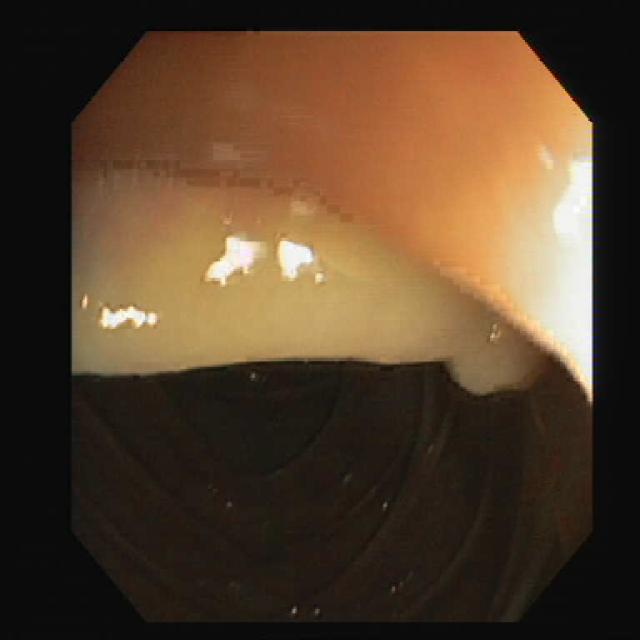tumor: (447, 284, 540, 393)
